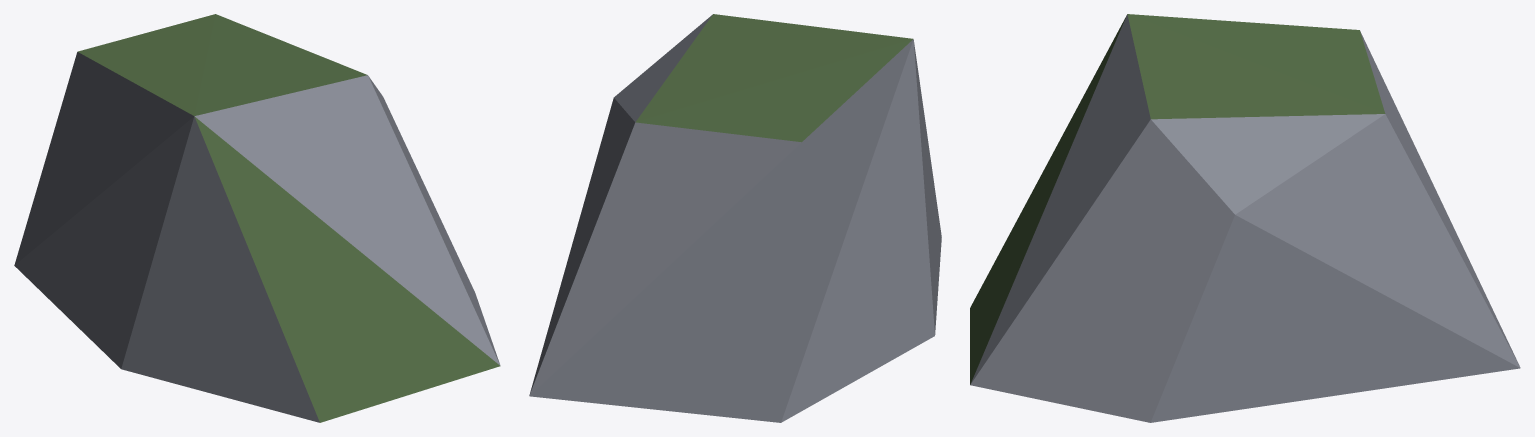
The model's file is Rock_Moss_5.lod4.glb.
3 views of the same model, side by side, from view 1: azimuth 30°, elevation 25°; view 2: azimuth 150°, elevation 25°; view 3: azimuth 270°, elevation 25° (orthographic). The views are drawn at different scales.
Parts seen in each view (by area): view 1: Rock_Moss_5; view 2: Rock_Moss_5; view 3: Rock_Moss_5.
Part boxes in pixels (box(x1,y1,x2,y2)): Rock_Moss_5: box(14, 14, 500, 422); Rock_Moss_5: box(529, 14, 941, 422); Rock_Moss_5: box(970, 14, 1520, 422).
Size of the model in its own units: 0.6851 by 0.5711 by 0.939.
